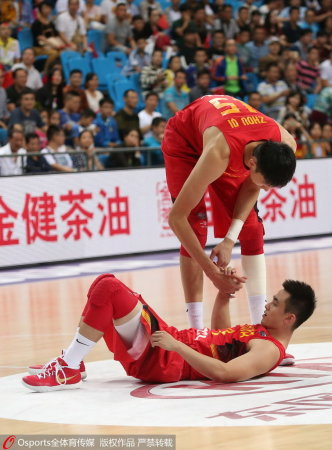10+: (1, 4, 332, 378)
down: (6, 273, 317, 387)
